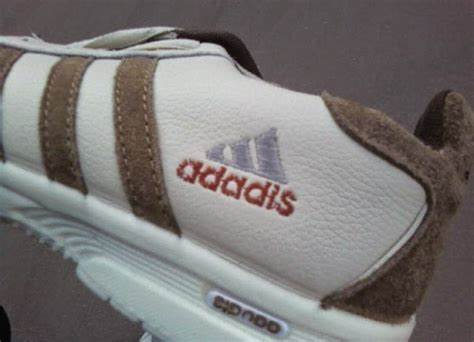adidas Fake: (169, 110, 310, 220)
